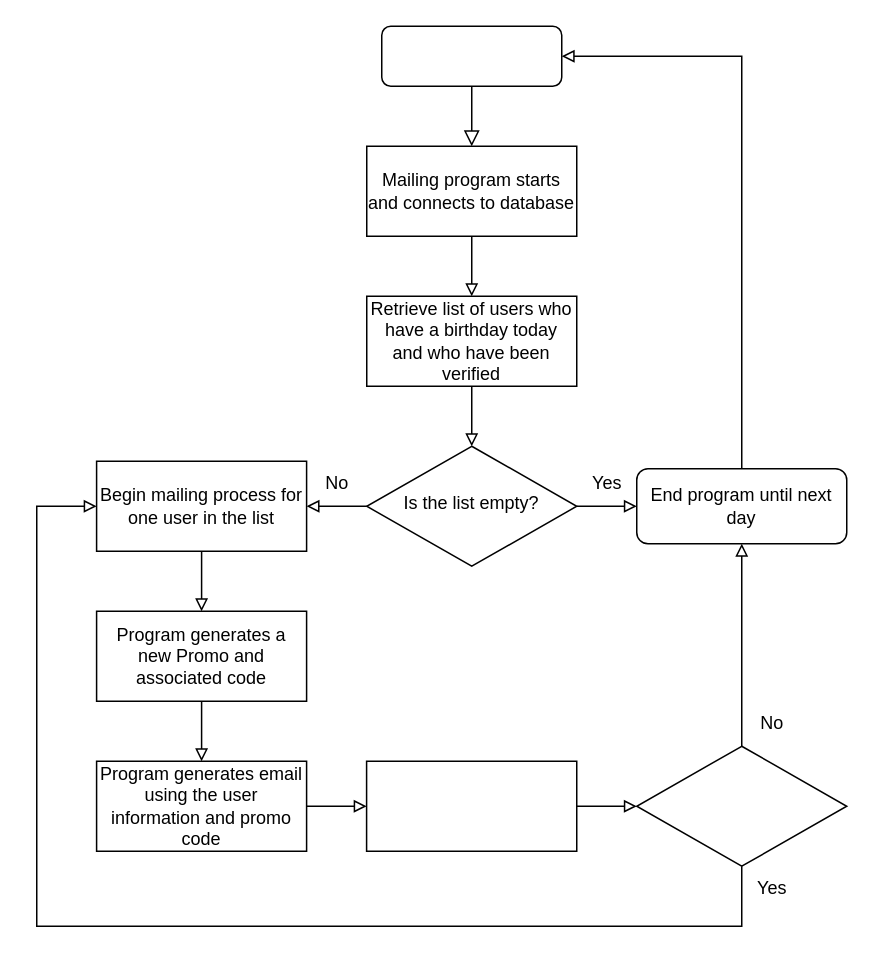
Some shapes in this 873 by 965 pixel diagram are drawn without their labels. Here are the shapes that lost their labels. From the top down, the centre of each, then its label:
the point at 471,55: A new day begins.
the point at 471,805: Program sends email.
the point at 741,805: Are there any users remaining?
